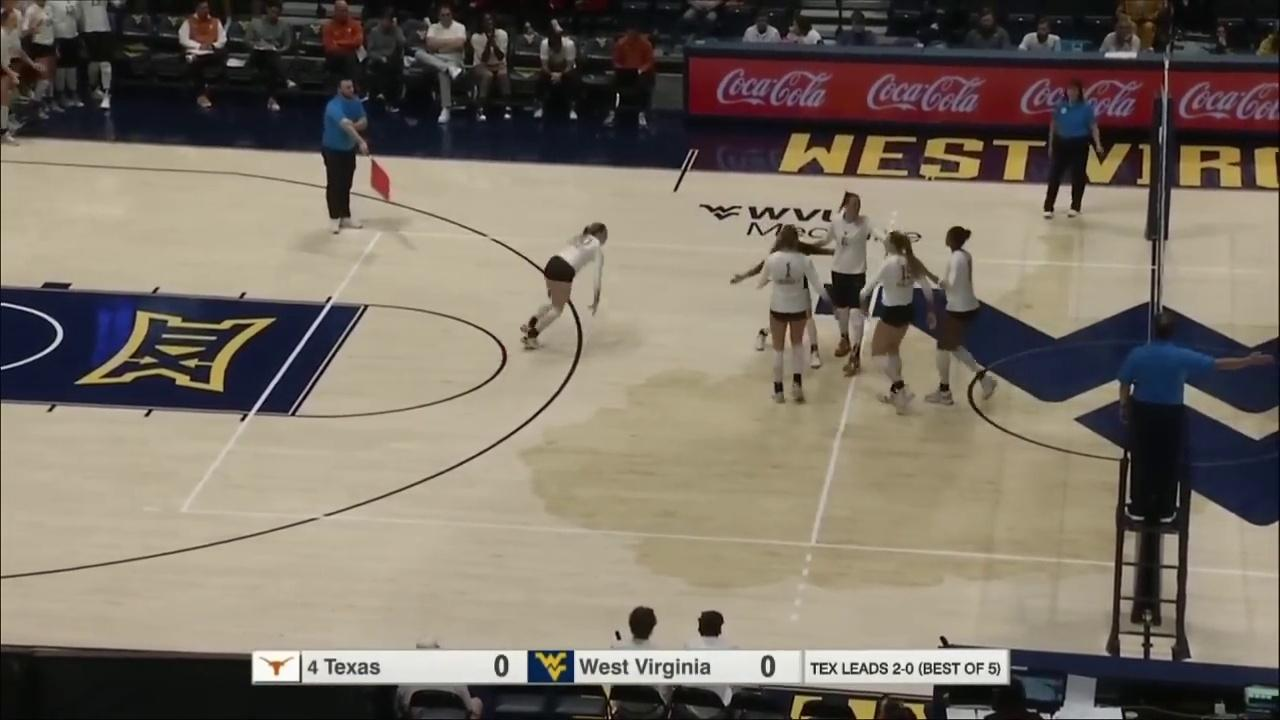player: (727, 226, 844, 367), (759, 226, 839, 401), (811, 192, 889, 371), (864, 236, 935, 409), (926, 226, 995, 403), (520, 224, 608, 347)
refree: (1114, 312, 1271, 521), (316, 78, 389, 232), (1044, 79, 1104, 217)
